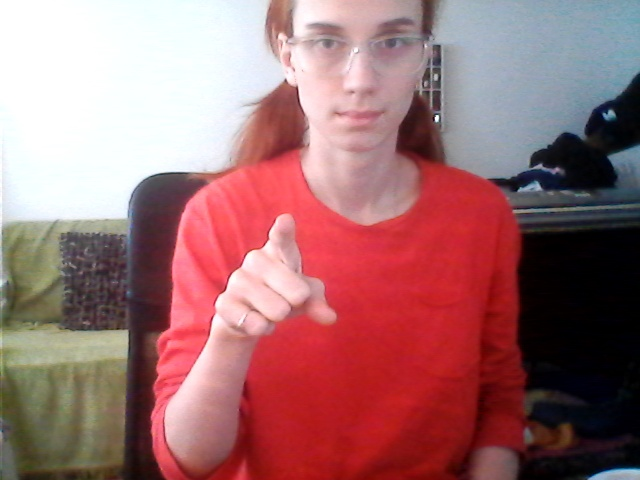ty: (207, 208, 345, 358)
